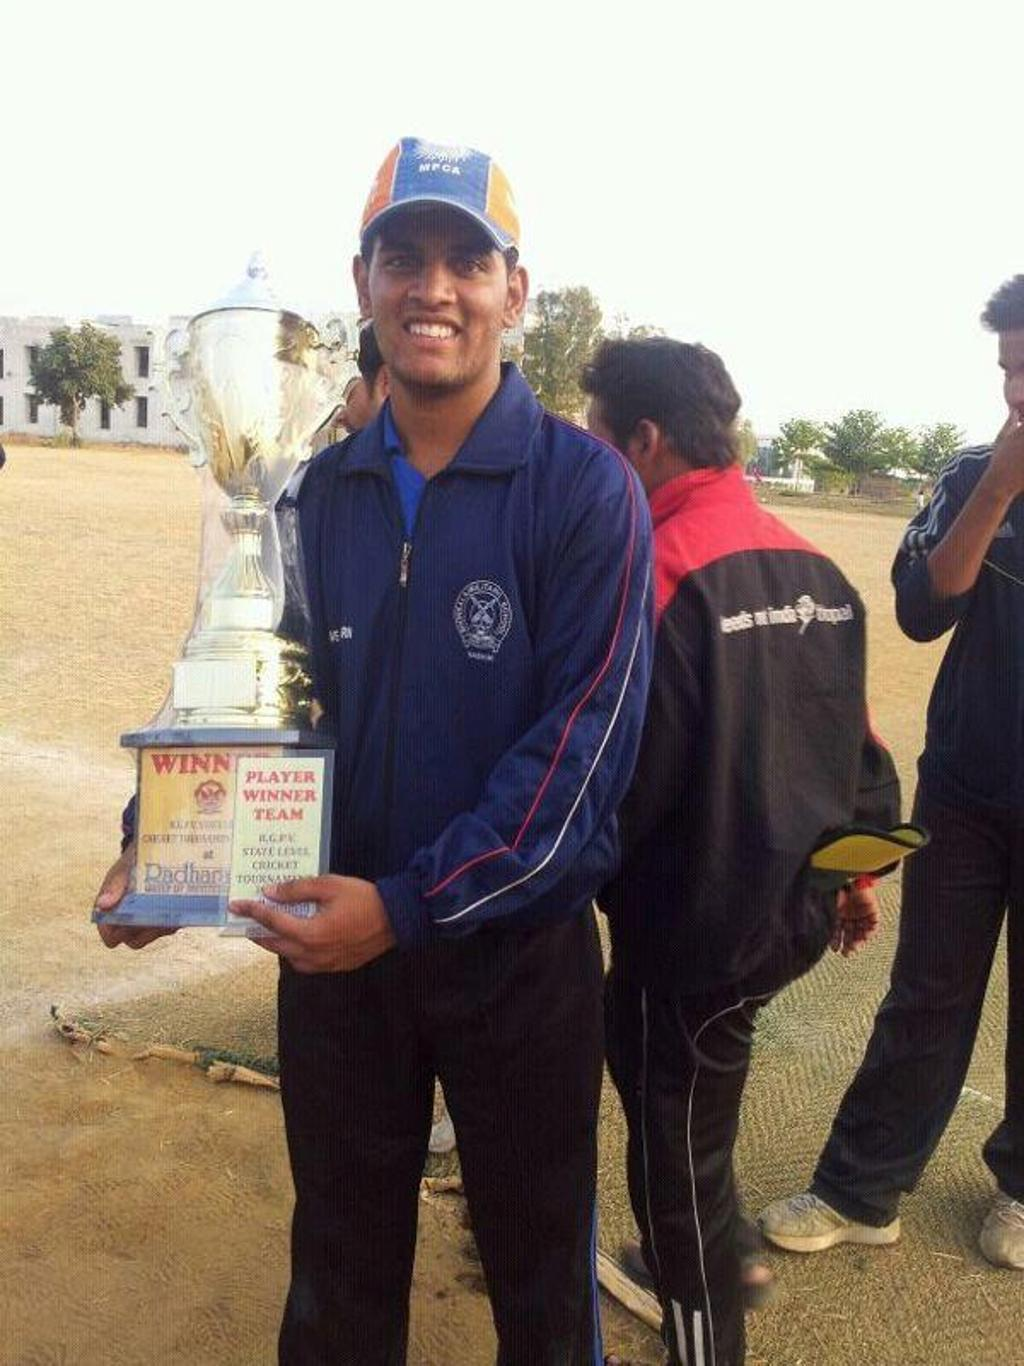face: (372, 217, 513, 388)
